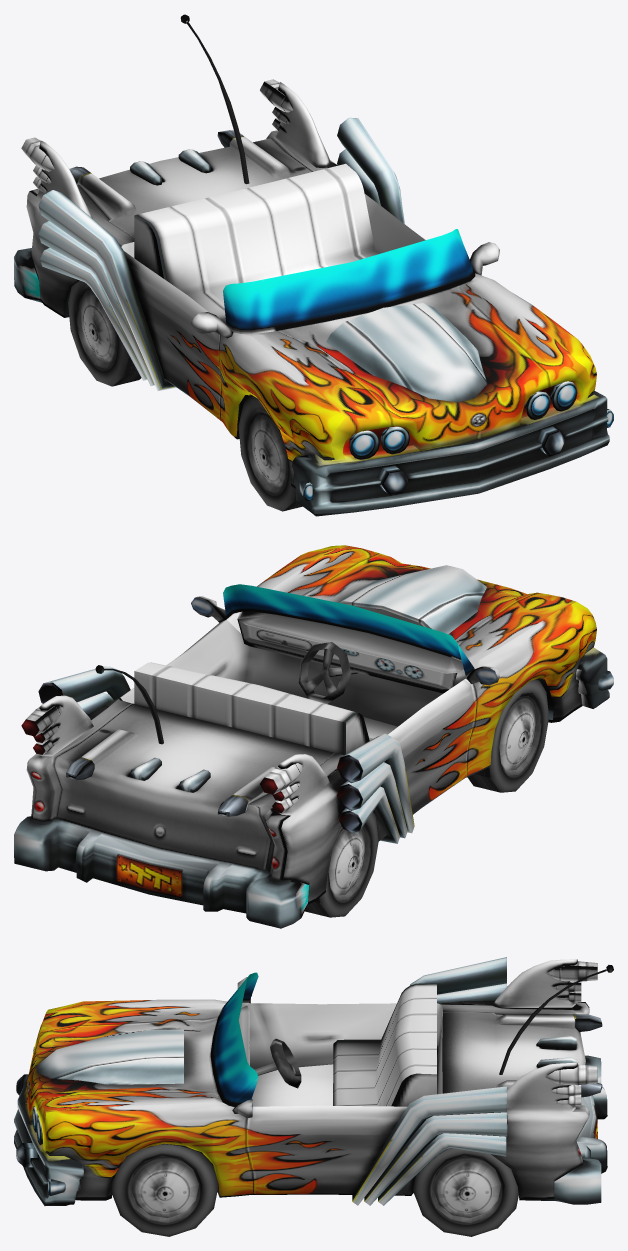
Rendered from TT_CAR.obj.
3 views of the same model, one above another, from view 1: azimuth 30°, elevation 25°; view 2: azimuth 150°, elevation 25°; view 3: azimuth 270°, elevation 25° (orthographic). The views are drawn at different scales.
Visible parts, largest first — view 1: TT_CAR, TT_WHEEL1, TT_WHEEL3; view 2: TT_CAR, TT_WHEEL1, TT_WHEEL3; view 3: TT_CAR, TT_WHEEL2, TT_WHEEL4.
Boxes of the visible parts, box(x1,y1,x2,y2) form: TT_CAR: box(14, 14, 613, 516); TT_WHEEL1: box(238, 396, 302, 511); TT_WHEEL3: box(68, 280, 141, 386); TT_CAR: box(14, 545, 613, 928); TT_WHEEL1: box(467, 679, 548, 792); TT_WHEEL3: box(305, 811, 378, 917); TT_CAR: box(14, 957, 613, 1205); TT_WHEEL2: box(112, 1144, 218, 1236); TT_WHEEL4: box(413, 1148, 518, 1236).
Size of the model in its own units: 1.94 by 1.52 by 3.5.
1 material, 1 textured.
